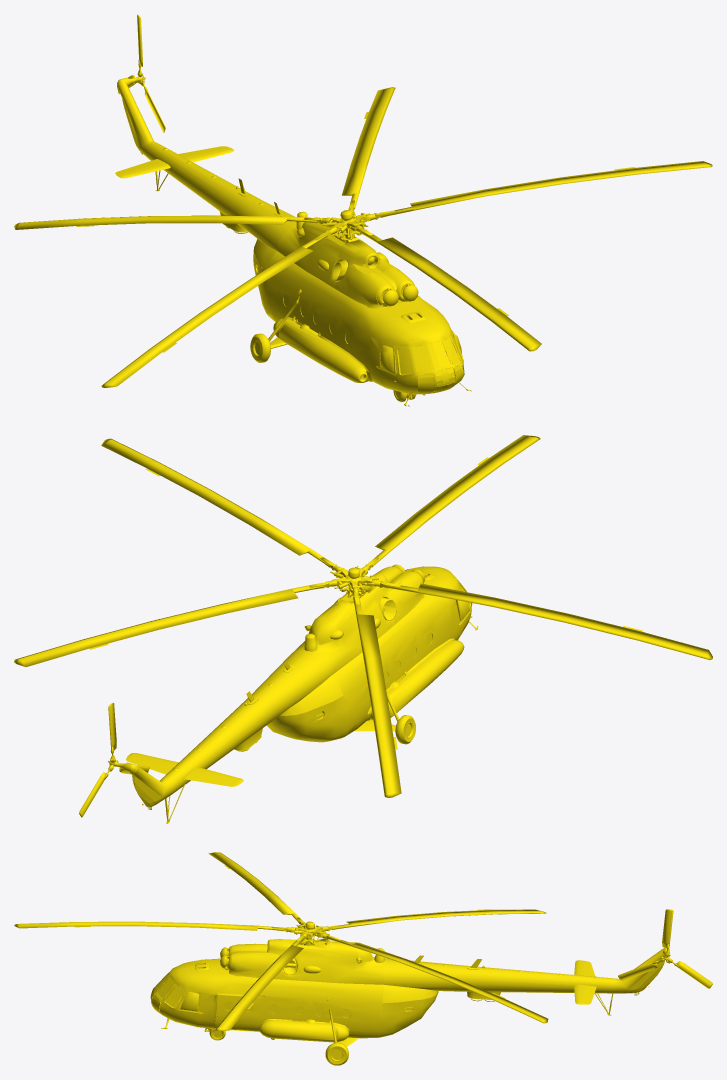
File: a96fad3f_animated_fixed.glb
3 renders of one model, top to bottom at view 1: azimuth 30°, elevation 25°; view 2: azimuth 150°, elevation 25°; view 3: azimuth 270°, elevation 25°, orthographic. The views are drawn at different scales.
Visible parts, largest first — view 1: mi8_Material #2460_0, lopocty_Material #1469_0, mi8_Material #2419_0, mi8_Material #1468_0, lopocty_Material #1470_0; view 2: mi8_Material #2460_0, lopocty_Material #1469_0, lopocty_Material #1470_0, mi8_Material #1468_0, zad.vint_Material #1473_0; view 3: mi8_Material #2460_0, lopocty_Material #1469_0, mi8_Material #2419_0, mi8_Material #1468_0, zad.vint_Material #1473_0, lopocty_Material #1470_0, dver_Material #2460_0.
Boxes of the visible parts, <box> form: mi8_Material #2460_0: <box>115,77,468,406</box>; lopocty_Material #1469_0: <box>14,87,712,387</box>; mi8_Material #2419_0: <box>283,294,463,393</box>; mi8_Material #1468_0: <box>140,152,471,406</box>; lopocty_Material #1470_0: <box>303,200,394,240</box>; mi8_Material #2460_0: <box>114,564,478,823</box>; lopocty_Material #1469_0: <box>14,435,712,797</box>; lopocty_Material #1470_0: <box>309,557,400,604</box>; mi8_Material #1468_0: <box>142,589,478,809</box>; zad.vint_Material #1473_0: <box>79,702,149,817</box>; mi8_Material #2460_0: <box>151,938,669,1046</box>; lopocty_Material #1469_0: <box>14,852,548,1031</box>; mi8_Material #2419_0: <box>150,973,351,1017</box>; mi8_Material #1468_0: <box>161,941,649,1065</box>; zad.vint_Material #1473_0: <box>618,909,712,988</box>; lopocty_Material #1470_0: <box>271,917,341,944</box>; dver_Material #2460_0: <box>215,995,239,1029</box>.
Size of the model in its own units: 22.31 by 5.98 by 27.82.
